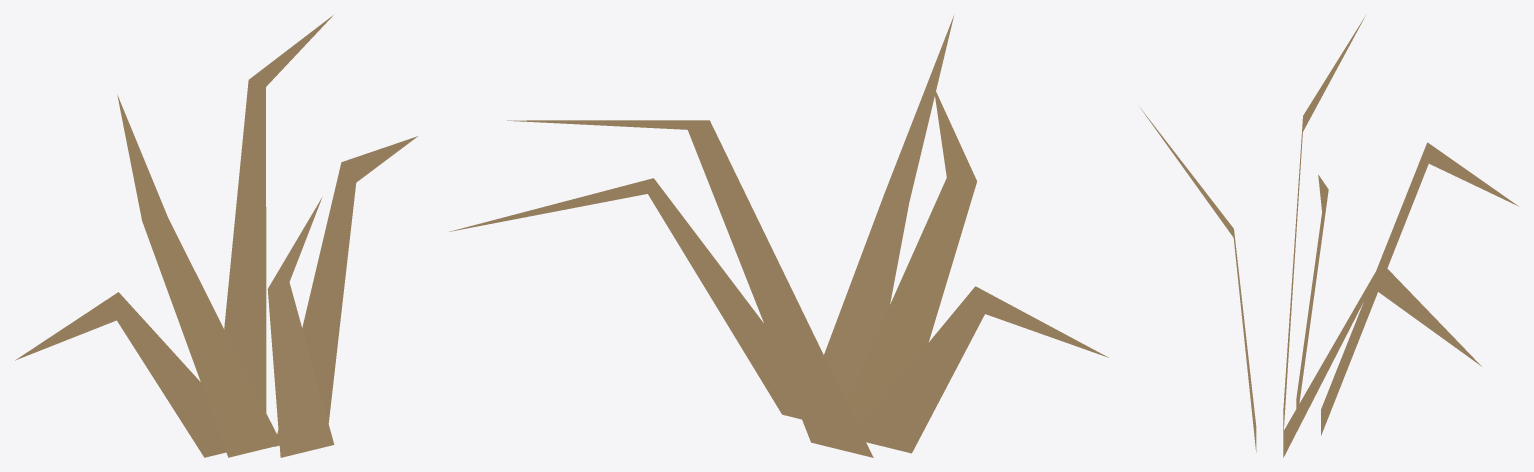
File: Grass_g_TwoS_04.fbx
The picture shows the model from 3 angles, left to right: view 1: azimuth 30°, elevation 25°; view 2: azimuth 150°, elevation 25°; view 3: azimuth 270°, elevation 25°; orthographic projection. The views are drawn at different scales.
Parts seen in each view (by area): view 1: Grass_g_TwoS_04; view 2: Grass_g_TwoS_04; view 3: Grass_g_TwoS_04.
Part boxes in pixels (x1=…): Grass_g_TwoS_04: x1=15, y1=15, x2=417, y2=457; Grass_g_TwoS_04: x1=449, y1=16, x2=1108, y2=457; Grass_g_TwoS_04: x1=1140, y1=15, x2=1518, y2=457.
Bounding box in the file's own units: 0.6752 × 0.4681 × 0.4505.
